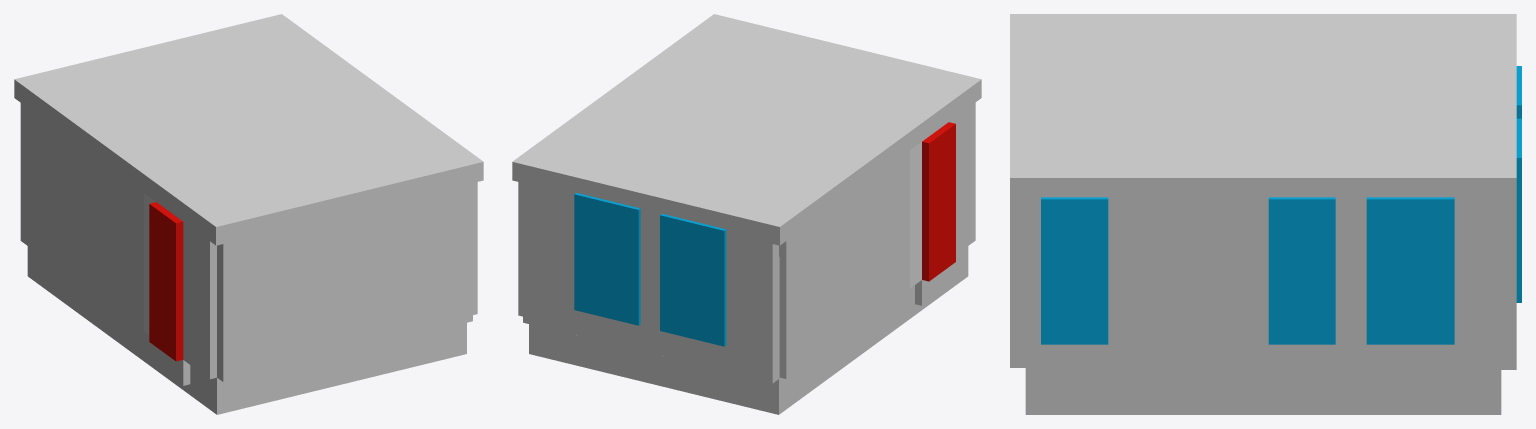
File: room_1.fbx_Scene.fbx
The picture shows the model from 3 angles, left to right: view 1: azimuth 30°, elevation 25°; view 2: azimuth 150°, elevation 25°; view 3: azimuth 270°, elevation 25°; orthographic projection. The views are drawn at different scales.
Visible parts, largest first — view 1: Cube.001, cube.001, cube.005, Cube, cube.003, cube.002, cube.004, cube.023, cube; view 2: Cube.001, cube.005, Cube, glass.003, glass.004, cube.017, cube.015, cube.003, cube.019, cube.002, cube.004, cube.016 (+3 smaller); view 3: Cube.001, Cube, cube.010, cube.011, glass.002, glass, glass.001, cube.013, cube.021, cube.014, cube, cube.015 (+4 smaller).
Part boxes in pixels (bbox=[...]): Cube.001: bbox=[14, 14, 483, 245]; cube.001: bbox=[217, 183, 472, 381]; cube.005: bbox=[20, 103, 144, 330]; Cube: bbox=[27, 246, 466, 414]; cube.003: bbox=[149, 202, 183, 361]; cube.002: bbox=[183, 222, 216, 379]; cube.004: bbox=[144, 193, 155, 334]; cube.023: bbox=[156, 347, 190, 385]; cube: bbox=[473, 182, 477, 314]; Cube.001: bbox=[512, 14, 981, 245]; cube.005: bbox=[779, 151, 909, 378]; Cube: bbox=[529, 246, 968, 414]; glass.003: bbox=[574, 193, 640, 325]; glass.004: bbox=[660, 213, 726, 346]; cube.017: bbox=[726, 230, 778, 383]; cube.015: bbox=[523, 181, 576, 335]; cube.003: bbox=[922, 122, 955, 281]; cube.019: bbox=[640, 209, 662, 356]; cube.002: bbox=[949, 102, 975, 254]; cube.004: bbox=[910, 142, 921, 288]; cube.016: bbox=[576, 310, 640, 350]; Cube.001: bbox=[1010, 14, 1516, 201]; Cube: bbox=[1025, 374, 1501, 414]; cube.010: bbox=[1108, 198, 1190, 376]; cube.011: bbox=[1191, 198, 1268, 376]; glass.002: bbox=[1366, 197, 1454, 344]; glass: bbox=[1041, 197, 1108, 344]; glass.001: bbox=[1268, 197, 1335, 344]; cube.013: bbox=[1454, 198, 1501, 376]; cube.021: bbox=[1335, 201, 1366, 376]; cube.014: bbox=[1366, 344, 1454, 375]; cube: bbox=[1025, 201, 1040, 374]; cube.015: bbox=[1501, 201, 1516, 369].
Bounding box in the file's own units: 780 × 520 × 990.
